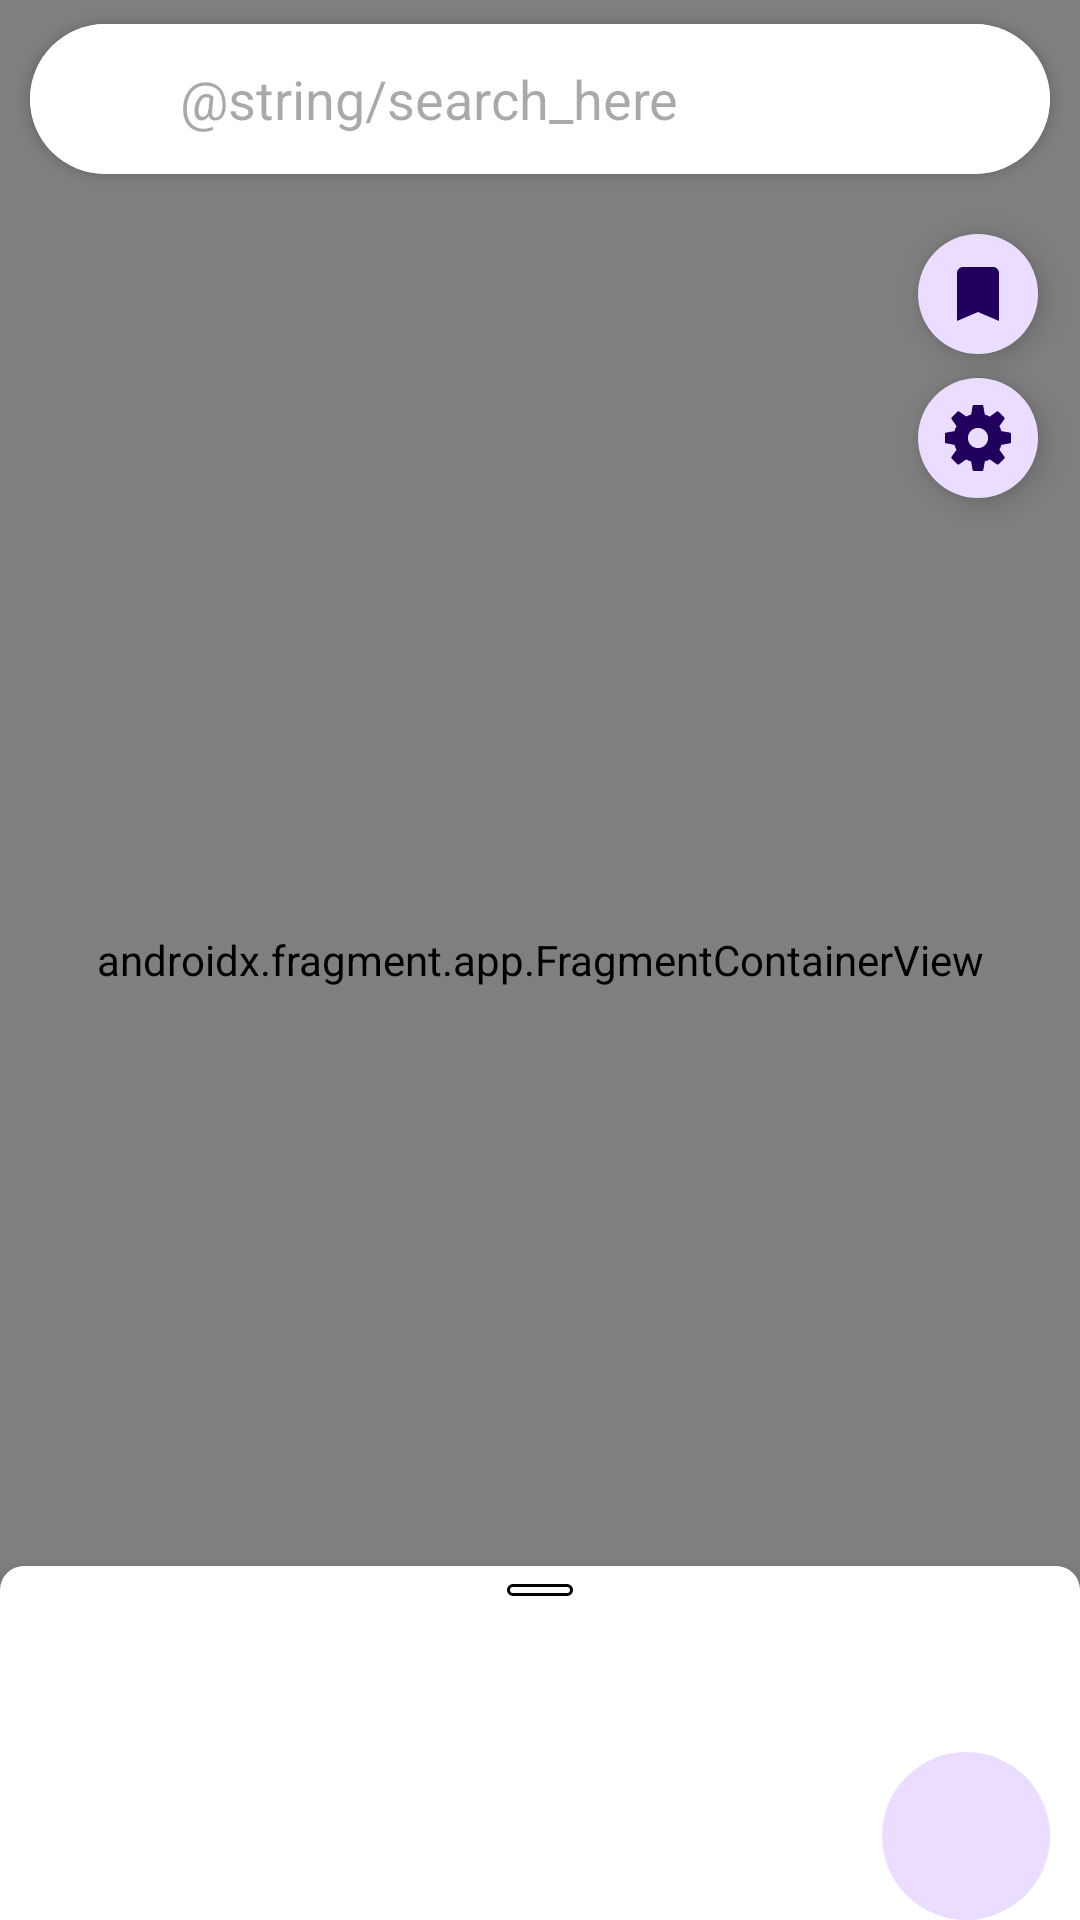

Icons on this 1080 × 1920 Android screen, each with the point to tap as [x,y]:
bookmarks: [978,294]
settings: [978,438]
